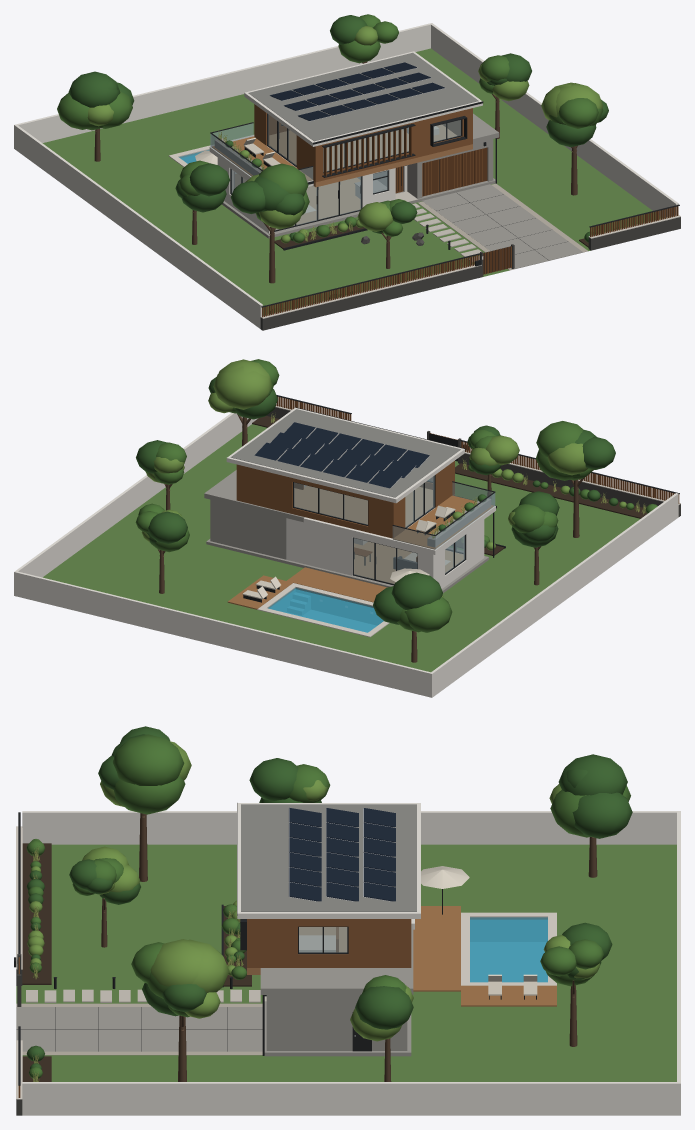
The model's file is modern-house.glb.
3 views of the same model, one above another, from view 1: azimuth 30°, elevation 25°; view 2: azimuth 150°, elevation 25°; view 3: azimuth 270°, elevation 25° (orthographic). The views are drawn at different scales.
Parts seen in each view (by area): view 1: Lawn, Boundary, WallNorth, Membrane, Driveway, WallWest, WallEast, Floor (×2), Canopy6 (×3), Canopy4 (×3), Canopy7 (×2), UpperFront (+20 smaller); view 2: Lawn, WallNorth, WallWest, Membrane, WallEast, Floor (×2), UpperRear, Boundary, GarageRear, Pool, Canopy8 (×2), Water (+26 smaller); view 3: Lawn, WallEast, WallWest, Driveway, Membrane, UpperEast, GarageEast, Canopy1 (×3), Water, Canopy6 (×3), PoolDeck, Canopy7 (×2) (+20 smaller).
Boxes of the visible parts, bbox=[...] form: Lawn: bbox=[42, 48, 660, 314]; Boundary: bbox=[260, 204, 680, 330]; WallNorth: bbox=[14, 23, 432, 148]; Membrane: bbox=[248, 52, 478, 141]; Driveway: bbox=[418, 183, 587, 270]; WallWest: bbox=[14, 124, 262, 328]; WallEast: bbox=[430, 23, 678, 217]; Floor (×2): bbox=[269, 124, 456, 229]; Canopy6 (×3): bbox=[57, 92, 598, 196]; Canopy4 (×3): bbox=[230, 15, 596, 213]; Canopy7 (×2): bbox=[68, 71, 229, 196]; UpperFront: bbox=[314, 108, 472, 182]; Lawn: bbox=[43, 424, 639, 672]; WallNorth: bbox=[14, 571, 432, 697]; WallWest: bbox=[429, 493, 678, 697]; Membrane: bbox=[230, 409, 460, 497]; WallEast: bbox=[14, 412, 257, 596]; Floor (×2): bbox=[294, 485, 463, 583]; UpperRear: bbox=[236, 464, 395, 538]; Boundary: bbox=[266, 395, 680, 516]; GarageRear: bbox=[210, 500, 286, 559]; Pool: bbox=[261, 583, 389, 634]; Canopy8 (×2): bbox=[213, 366, 519, 465]; Water: bbox=[269, 589, 383, 632]; Lawn: bbox=[16, 844, 676, 1081]; WallEast: bbox=[22, 1082, 680, 1115]; WallWest: bbox=[22, 811, 680, 844]; Driveway: bbox=[16, 1003, 262, 1055]; Membrane: bbox=[241, 804, 416, 911]; UpperEast: bbox=[247, 919, 411, 967]; GarageEast: bbox=[266, 995, 407, 1050]; Canopy1 (×3): bbox=[161, 792, 632, 1029]; Water: bbox=[470, 919, 547, 982]; Canopy6 (×3): bbox=[113, 734, 603, 983]; PoolDeck: bbox=[413, 906, 460, 991]; Canopy7 (×2): bbox=[249, 754, 627, 800].
Bounding box in the file's own units: 33 × 9.8 × 34.12.
